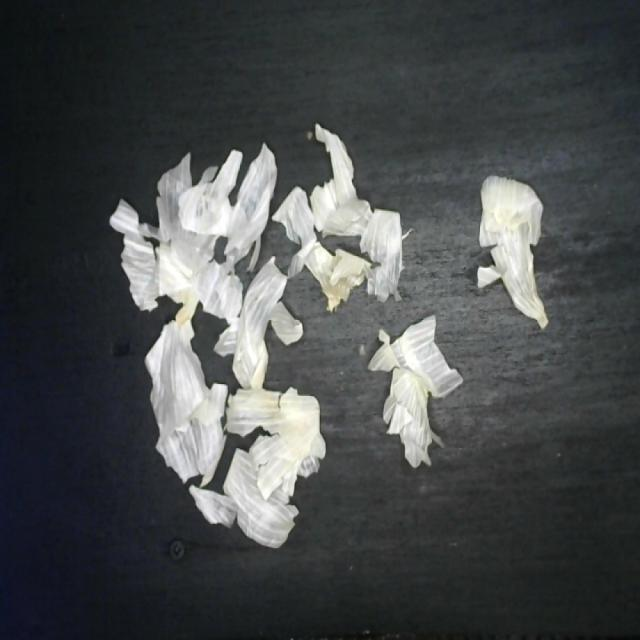biodegradable: (103, 114, 469, 552)
